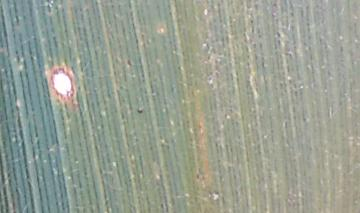tarspot: (124, 58, 135, 67), (135, 108, 144, 114), (194, 173, 201, 180)
